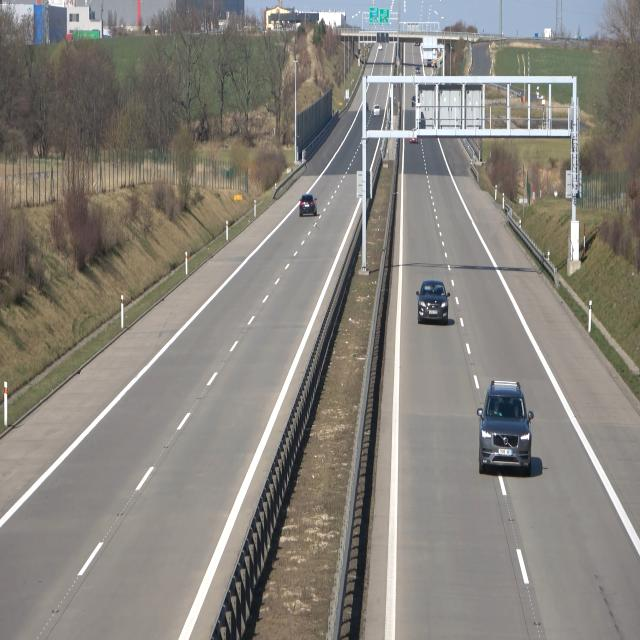Vehicle: (476, 381, 534, 474), (416, 279, 450, 323), (298, 194, 317, 217), (372, 103, 381, 118)
